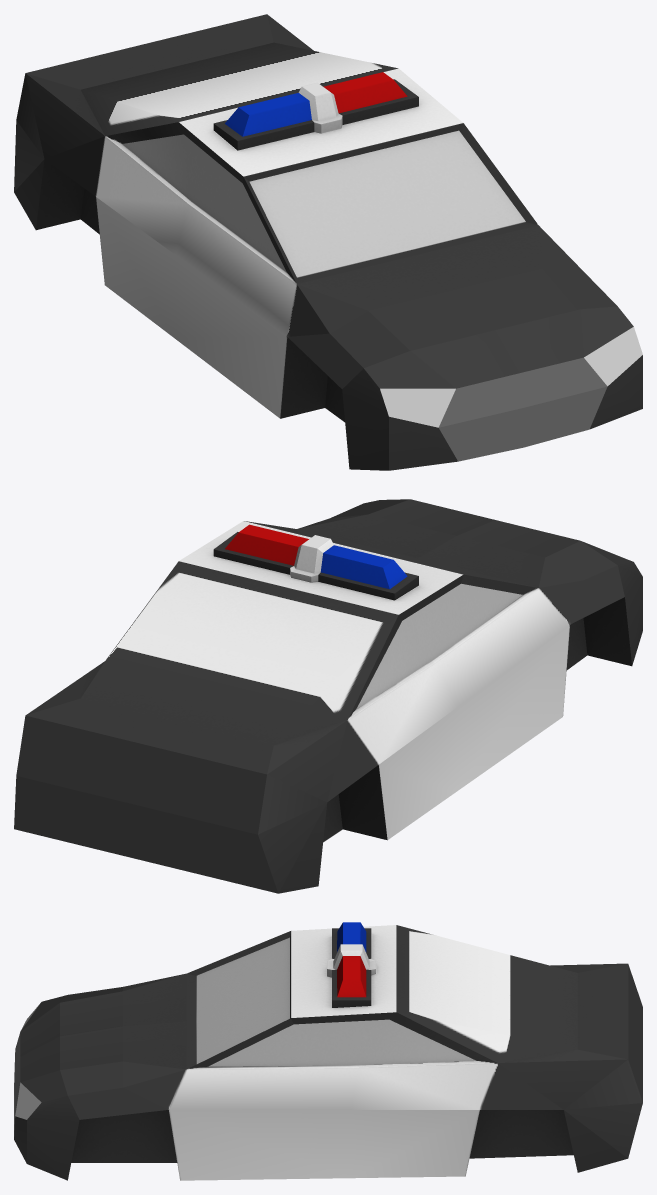
File: Car_Police.fbx
The picture shows the model from 3 angles, top to bottom: view 1: azimuth 30°, elevation 25°; view 2: azimuth 150°, elevation 25°; view 3: azimuth 270°, elevation 25°; orthographic projection. The views are drawn at different scales.
Visible parts, largest first — view 1: polySurface1; view 2: polySurface1; view 3: polySurface1.
Boxes of the visible parts, x1,y1,x2,y2 form: polySurface1: (14, 14, 642, 470); polySurface1: (14, 499, 642, 893); polySurface1: (14, 922, 642, 1180).
Bounding box in the file's own units: 2.03 × 1.49 × 4.81.
